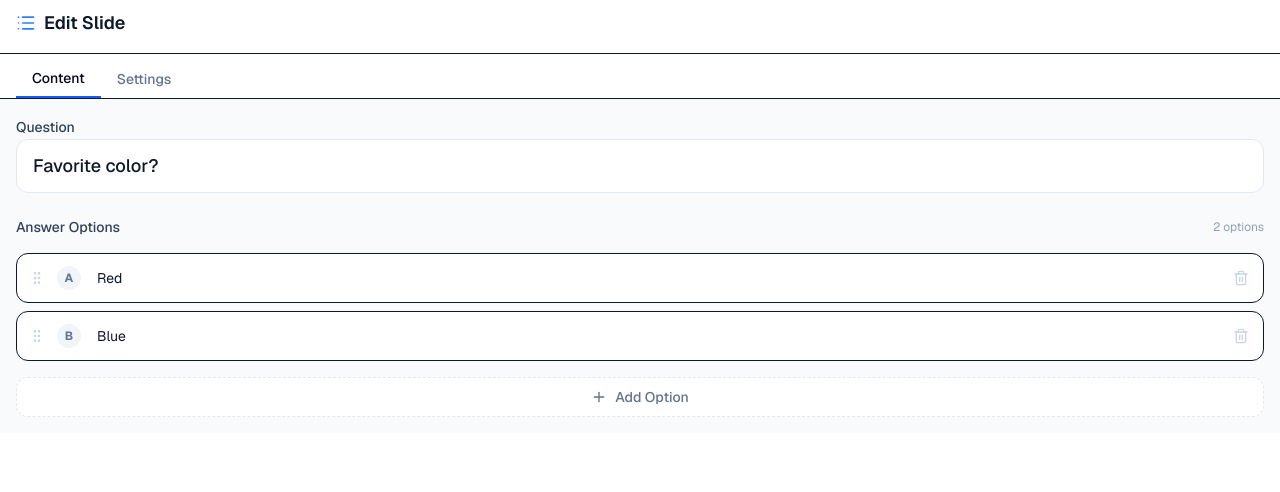
Test: SlideEditorPanel › poll slide option CRUD › adds a new option
The width and height of the screenshot is (1280, 492).
Click the button "Add Option" at (640, 397), box [16,377,1264,417]
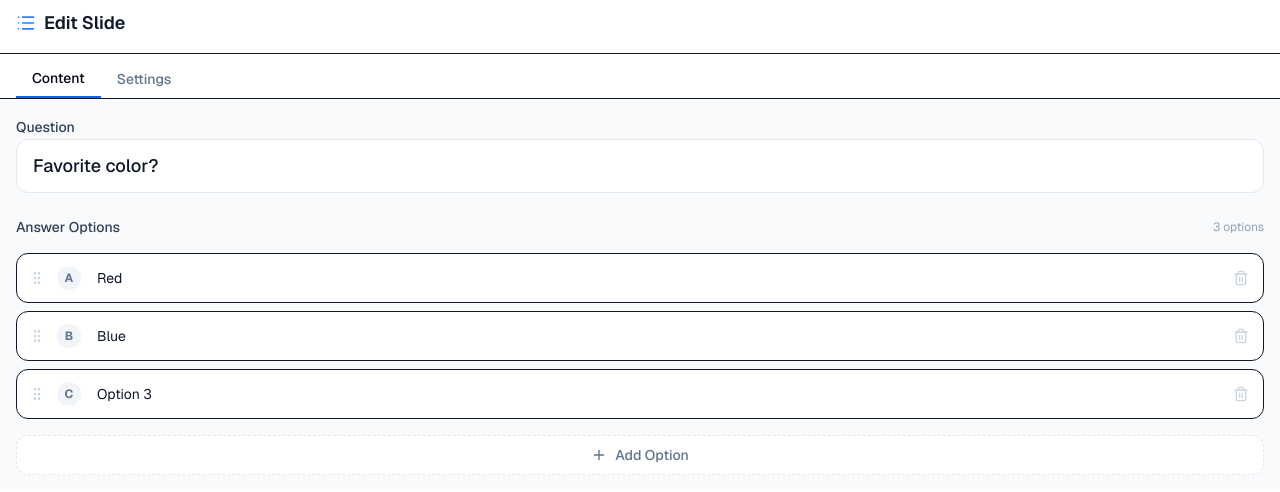
Expected: the 2nd field showing "Red" is shown, [89,262,1219,294]
Result: the 4th field showing "Option 3" is shown at [89,378,1219,410]
